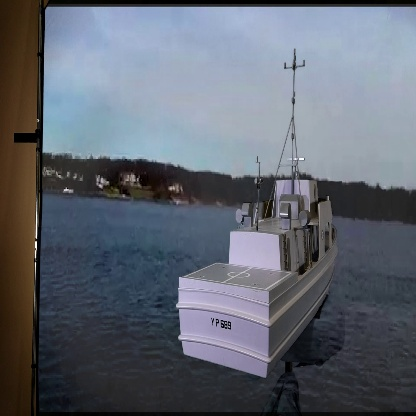YP689: (178, 48, 338, 379)
